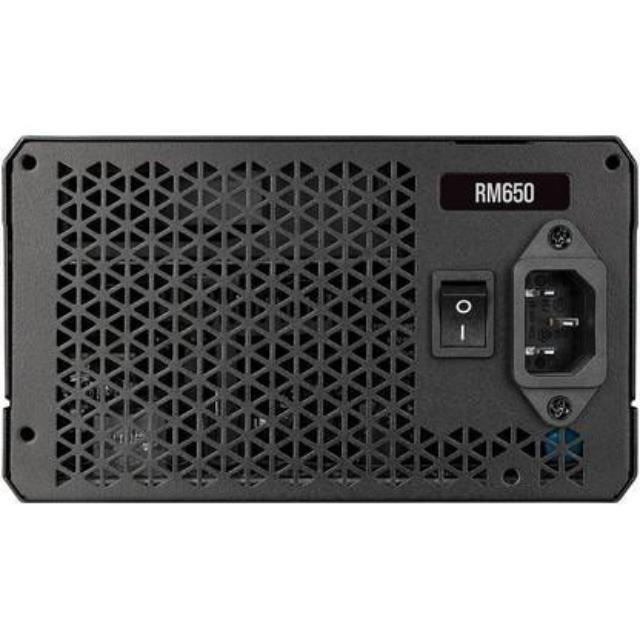PSU: (0, 127, 640, 516)
